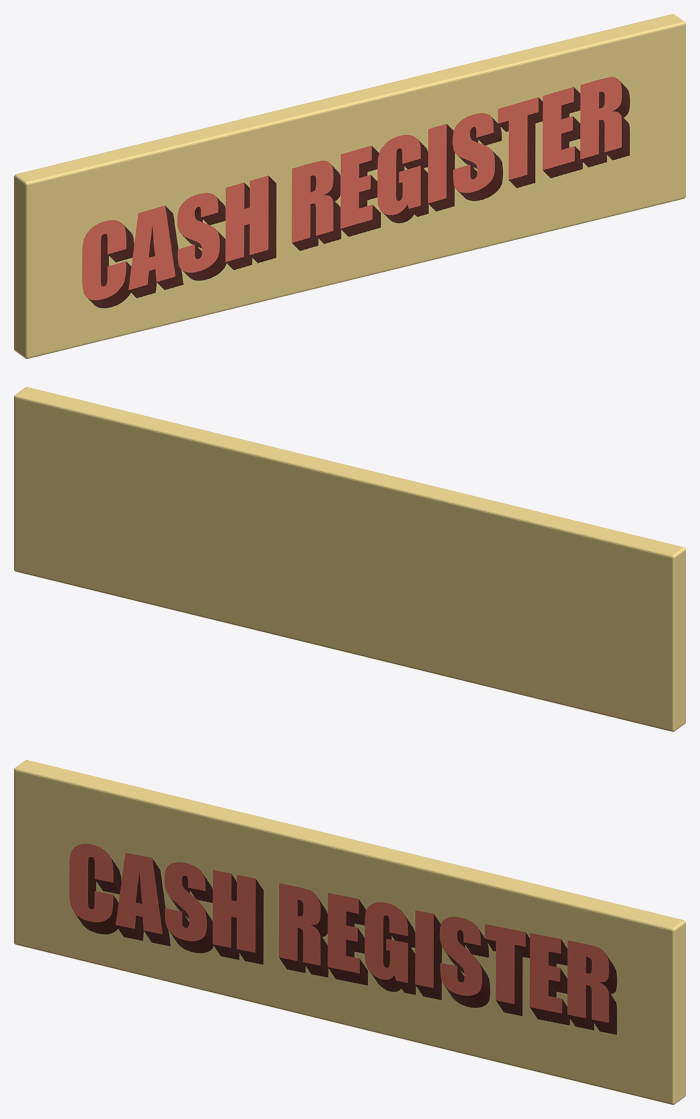
Rendered from cashRegister.fbx.
The picture shows the model from 3 angles, top to bottom: view 1: azimuth 30°, elevation 25°; view 2: azimuth 150°, elevation 25°; view 3: azimuth 330°, elevation 25°; orthographic projection.
Parts seen in each view (by area): view 1: cashRegister; view 2: cashRegister; view 3: cashRegister.
Boxes of the visible parts, <box> form: cashRegister: <box>14,14,685,358</box>; cashRegister: <box>14,387,685,731</box>; cashRegister: <box>14,760,685,1104</box>.
Size of the model in its own units: 149 by 38 by 5.
1 material, 1 textured.
